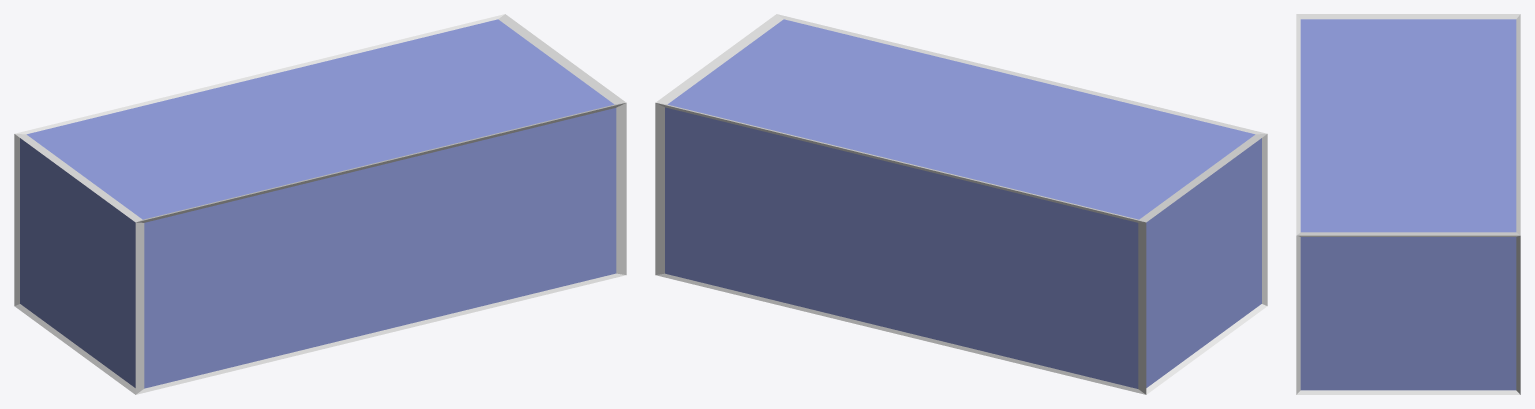
File: outer_creature_part_blueprint.glb
The picture shows the model from 3 angles, left to right: view 1: azimuth 30°, elevation 25°; view 2: azimuth 150°, elevation 25°; view 3: azimuth 270°, elevation 25°; orthographic projection. The views are drawn at different scales.
Parts seen in each view (by area): view 1: Cube.001; view 2: Cube.001; view 3: Cube.001.
Part boxes in pixels (bbox=[...]): Cube.001: bbox=[14, 14, 626, 394]; Cube.001: bbox=[655, 14, 1267, 394]; Cube.001: bbox=[1296, 14, 1520, 394].
Size of the model in its own units: 0.7181 by 0.2411 by 0.3071.
